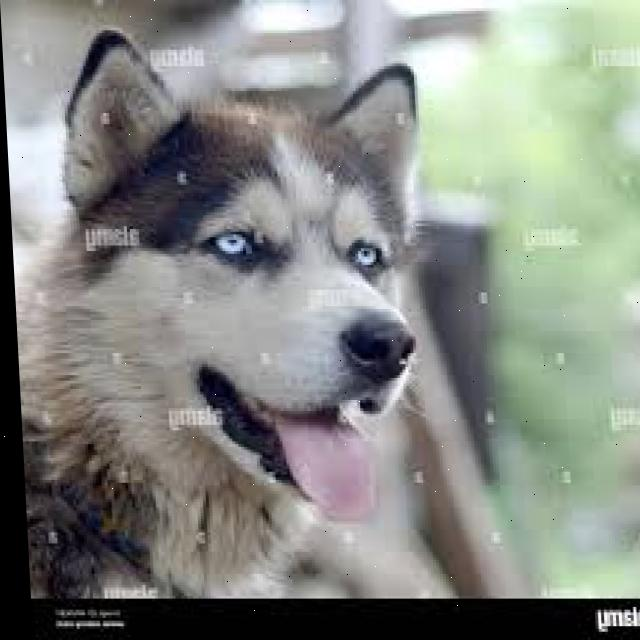ALASKAN_MALAMUTE: (1, 33, 502, 593)
